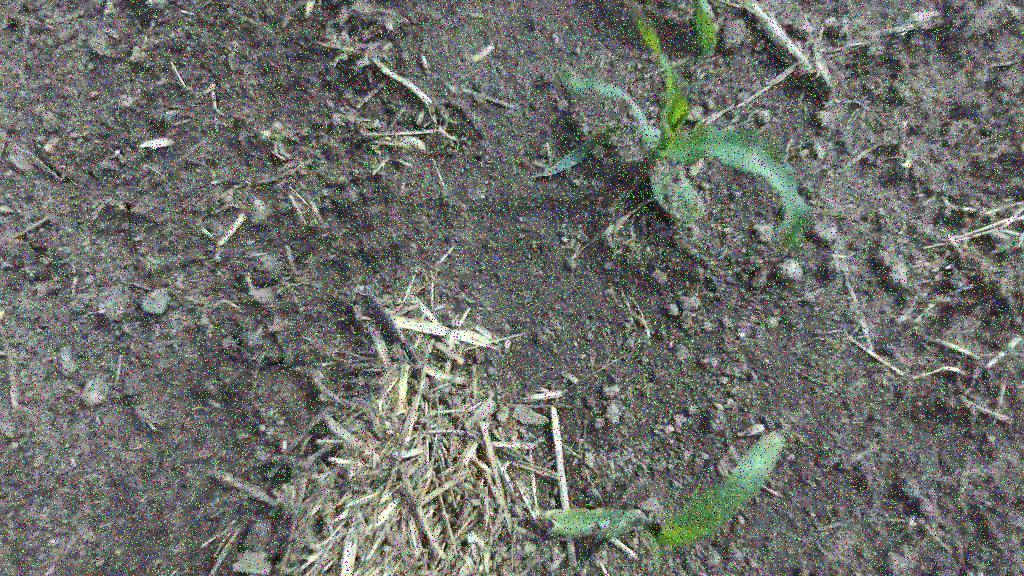BroWeed: (265, 503, 281, 520), (236, 427, 253, 440), (207, 167, 218, 176), (531, 239, 537, 249)
Maize: (538, 424, 814, 576)
